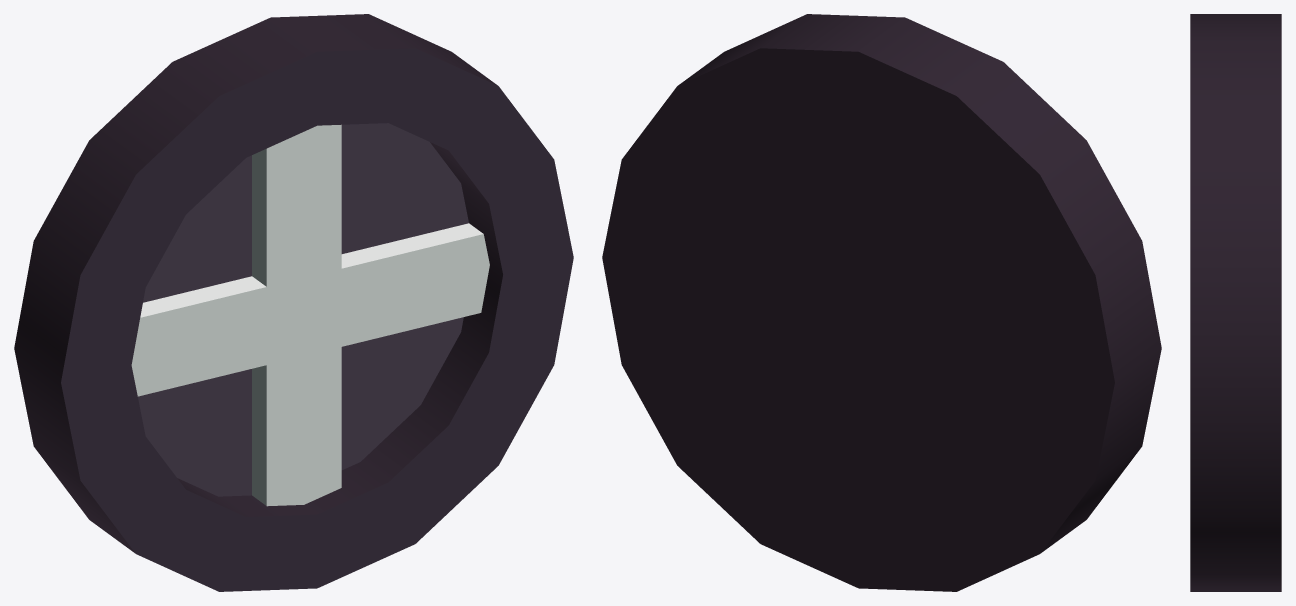
File: SmallWindow02_Black_White.glb
The picture shows the model from 3 angles, left to right: view 1: azimuth 30°, elevation 25°; view 2: azimuth 150°, elevation 25°; view 3: azimuth 270°, elevation 25°; orthographic projection. The views are drawn at different scales.
Visible parts, largest first — view 1: SmallWindow02_Black_White; view 2: SmallWindow02_Black_White; view 3: SmallWindow02_Black_White.
Boxes of the visible parts, x1,y1,x2,y2 form: SmallWindow02_Black_White: [14, 14, 573, 591]; SmallWindow02_Black_White: [602, 14, 1161, 591]; SmallWindow02_Black_White: [1190, 14, 1281, 591].
Bounding box in the file's own units: 0.5633 × 0.5633 × 0.089.
1 material, 1 textured.
